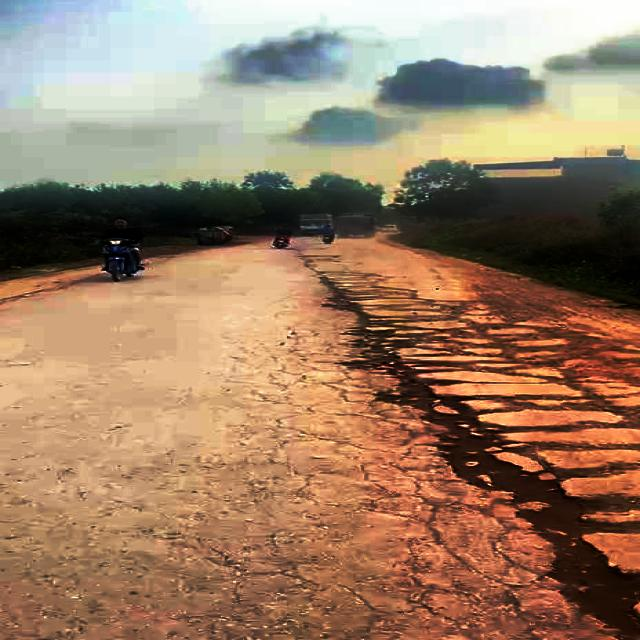pothole: (431, 435, 640, 639), (347, 346, 516, 448), (327, 294, 473, 358)
